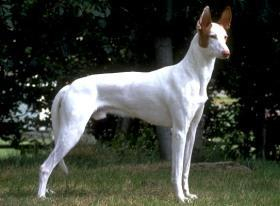Ibizan_hound: (33, 7, 229, 201)
